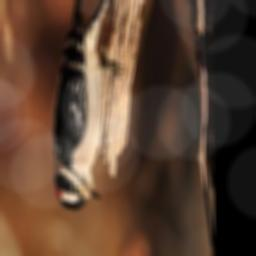Woodpecker: (52, 0, 127, 218)
